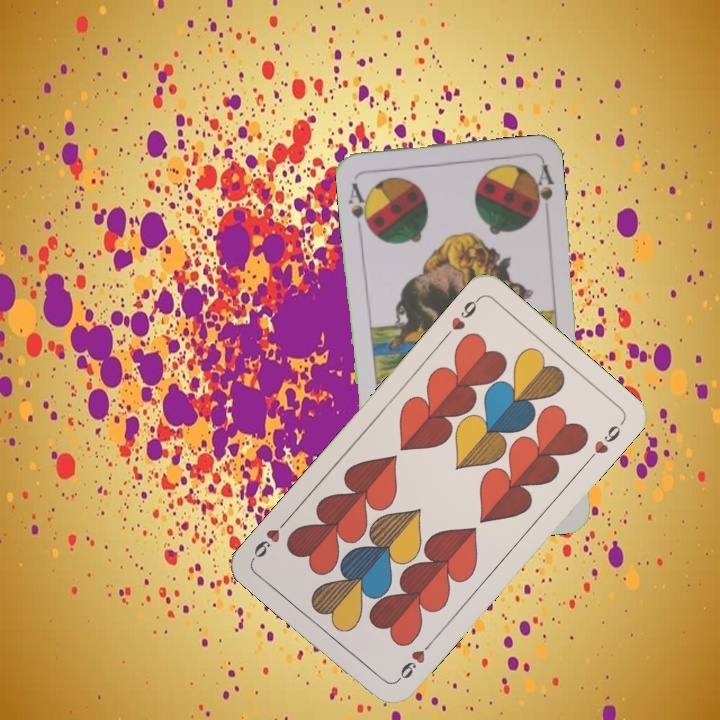H9: (391, 636, 435, 685), (439, 294, 483, 342)
SA: (344, 178, 374, 234)
